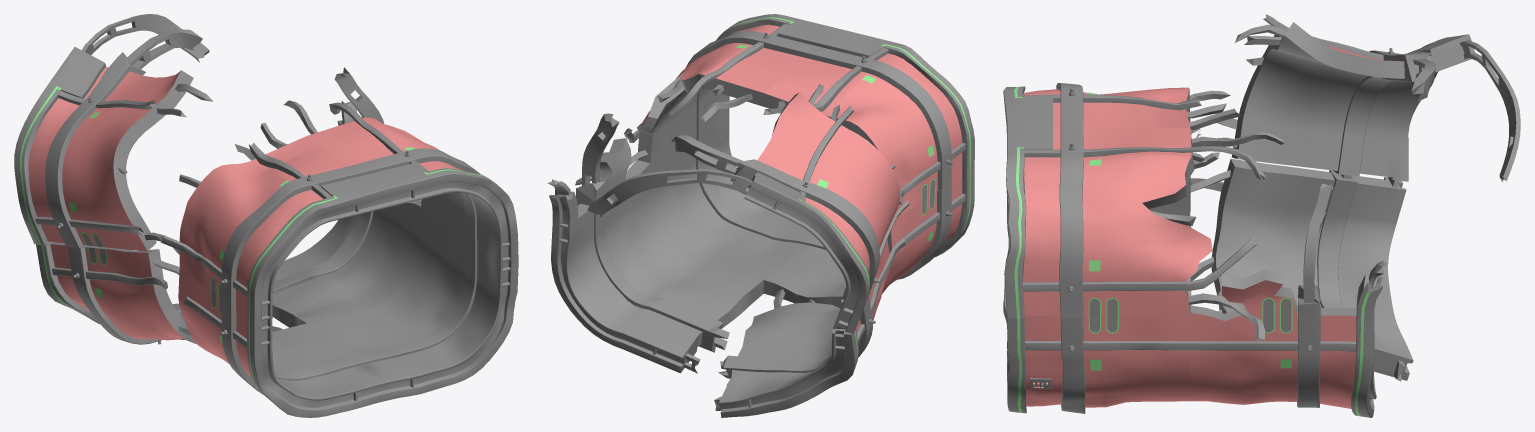
The model's file is SM_BigBoxBroken.gltf.
The picture shows the model from 3 angles, left to right: view 1: azimuth 30°, elevation 25°; view 2: azimuth 150°, elevation 25°; view 3: azimuth 270°, elevation 25°; orthographic projection. The views are drawn at different scales.
Visible parts, largest first — view 1: SM_BigBoxBroken; view 2: SM_BigBoxBroken; view 3: SM_BigBoxBroken.
Part boxes in pixels (bbox=[...]): SM_BigBoxBroken: bbox=[14, 14, 518, 417]; SM_BigBoxBroken: bbox=[547, 14, 974, 417]; SM_BigBoxBroken: bbox=[1003, 14, 1520, 417].
Bounding box in the file's own units: 6.42 × 5.14 × 7.05.
